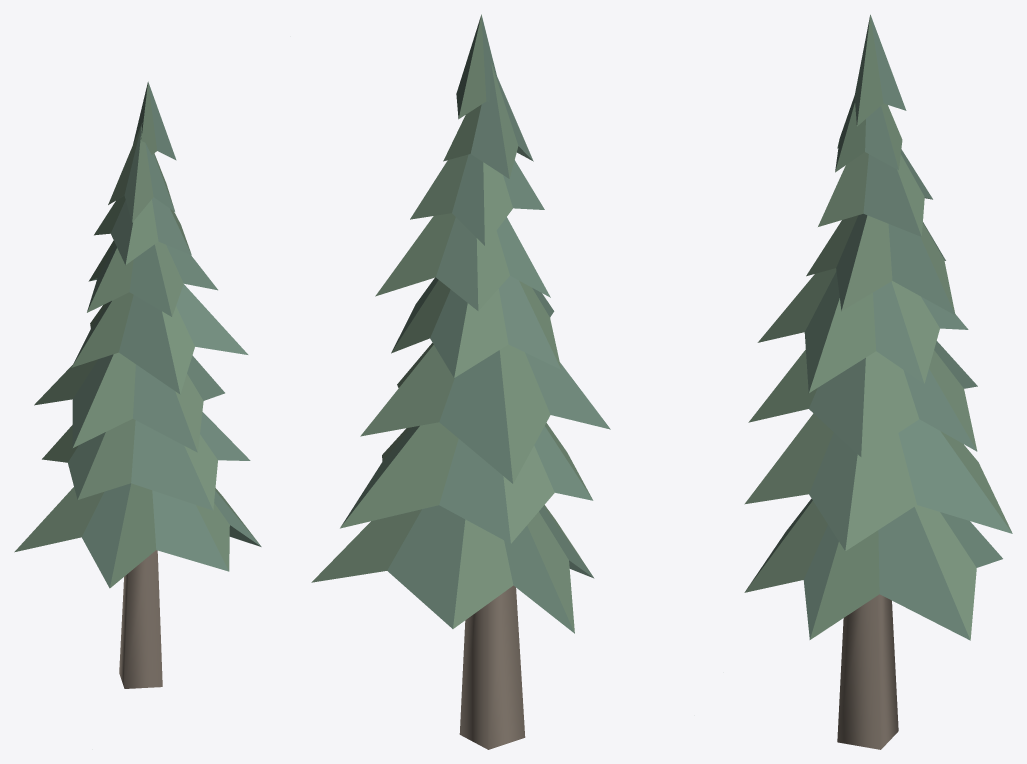
Rendered from FarPine1_leaf.glb.
The picture shows the model from 3 angles, left to right: view 1: azimuth 30°, elevation 25°; view 2: azimuth 150°, elevation 25°; view 3: azimuth 270°, elevation 25°; orthographic projection. The views are drawn at different scales.
Visible parts, largest first — view 1: FarPine1_leaf; view 2: FarPine1_leaf; view 3: FarPine1_leaf.
Boxes of the visible parts, box(x1,y1,x2,y2) form: FarPine1_leaf: box(14, 81, 261, 688); FarPine1_leaf: box(311, 14, 610, 749); FarPine1_leaf: box(744, 14, 1012, 749).
Size of the model in its own units: 9.59 by 25.31 by 9.13.
